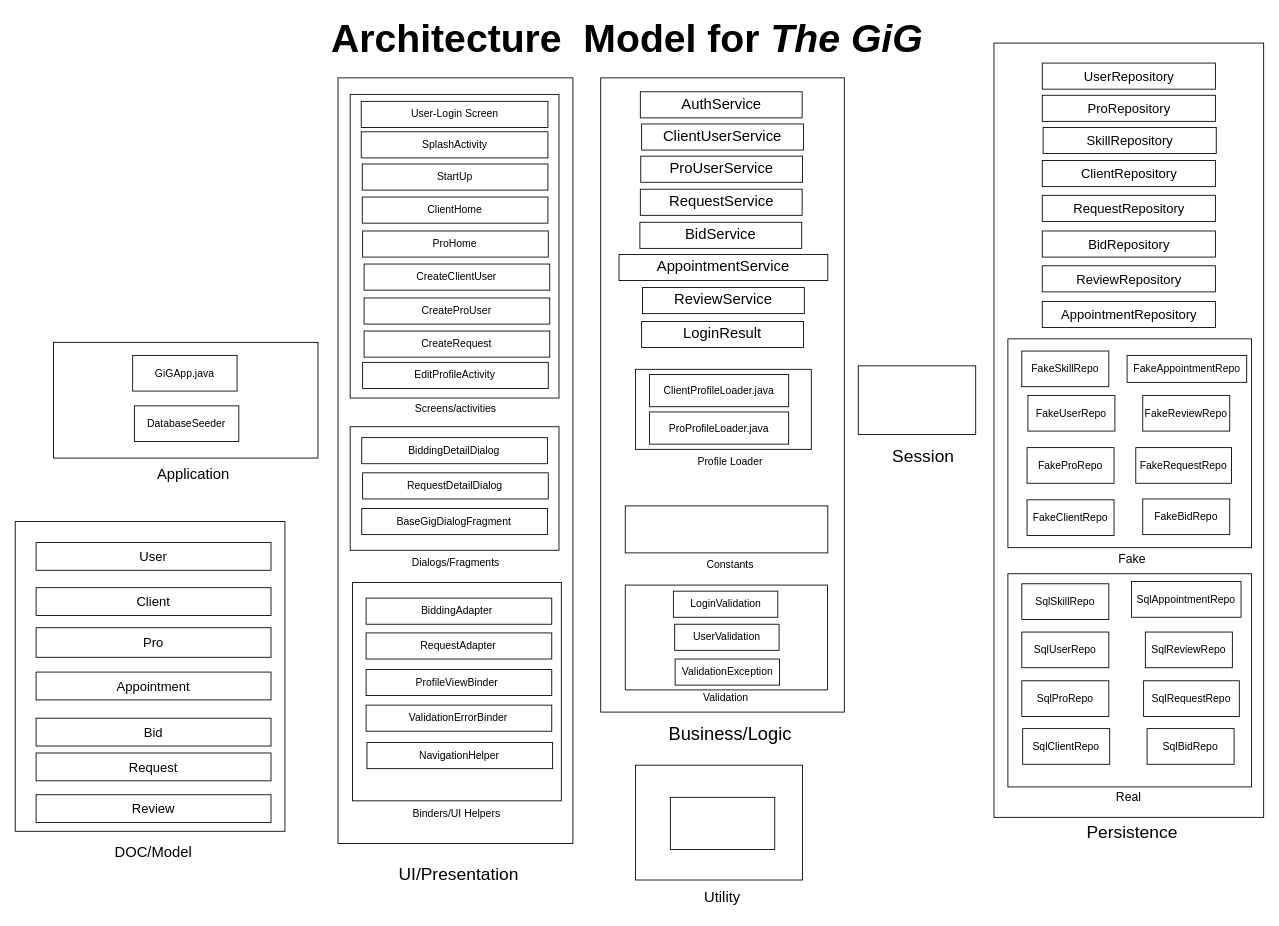
Image size: 1279x926. Some labels were removed from this diagram. Here are the shapes that lost their labels. From the top down, the centre of each, then its label:
At [916,400]: "SessionManager".
At [726,529]: "ValidationMessages.java".
At [722,823]: "Strings".
